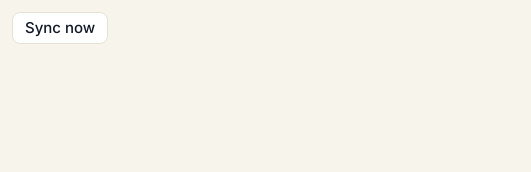
it: SyncNowButton › a refusal and an outage show fixed texts; a network error too
Click the button "Sync now": x=60, y=28 [12,12,108,44]
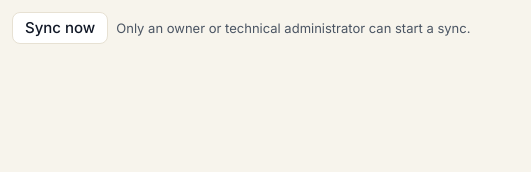
Result: the message reads "Only an owner or technical administrator can start a sync." at [116,20,470,36]
Click the button "Sync now": x=60, y=28 [12,12,108,44]
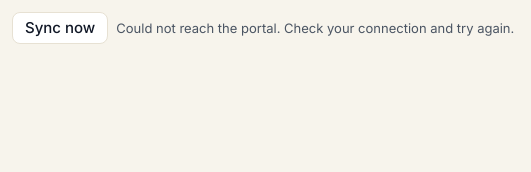
Result: the message reads "Could not reach the portal. Check your connection and try again." at [116,20,514,36]
